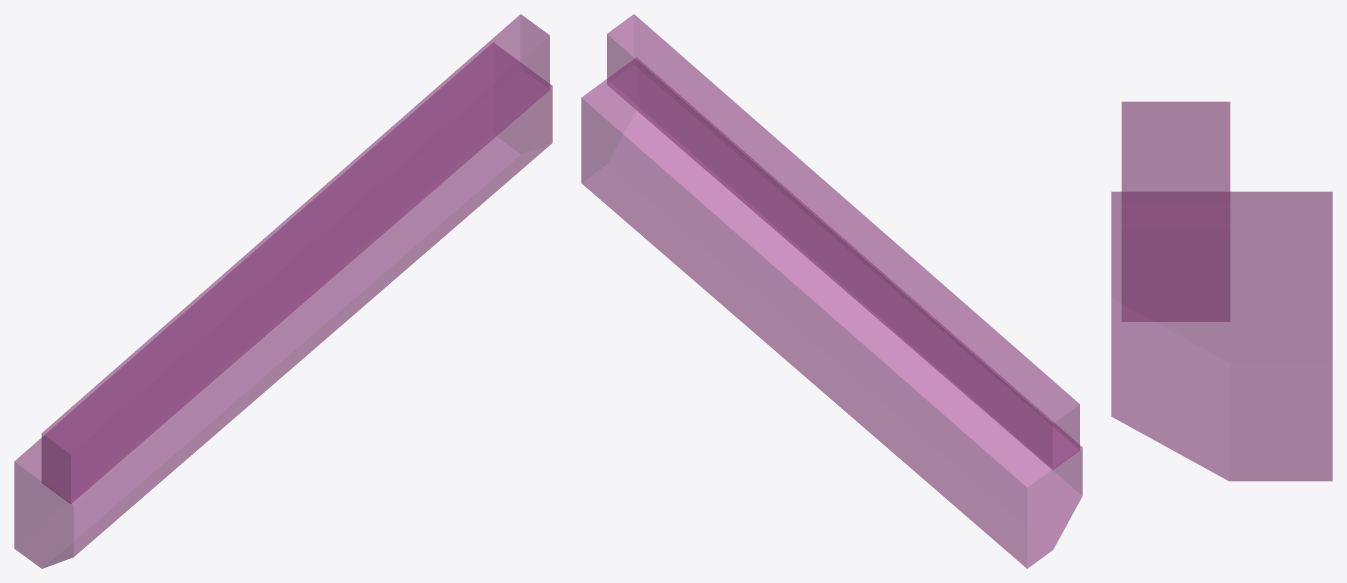
File: SM_Bld_Railing_Stairs_01_Collision.fbx
3 renders of one model, left to right at view 1: azimuth 30°, elevation 25°; view 2: azimuth 150°, elevation 25°; view 3: azimuth 270°, elevation 25°, orthographic. The views are drawn at different scales.
Visible parts, largest first — view 1: SM_Bld_Railing_Stairs_01_Collision; view 2: SM_Bld_Railing_Stairs_01_Collision; view 3: SM_Bld_Railing_Stairs_01_Collision.
Part boxes in pixels (bbox=[...]): SM_Bld_Railing_Stairs_01_Collision: bbox=[14, 14, 552, 568]; SM_Bld_Railing_Stairs_01_Collision: bbox=[581, 14, 1082, 568]; SM_Bld_Railing_Stairs_01_Collision: bbox=[1111, 101, 1332, 481].
Size of the model in its own units: 255 by 223 by 54.88.
